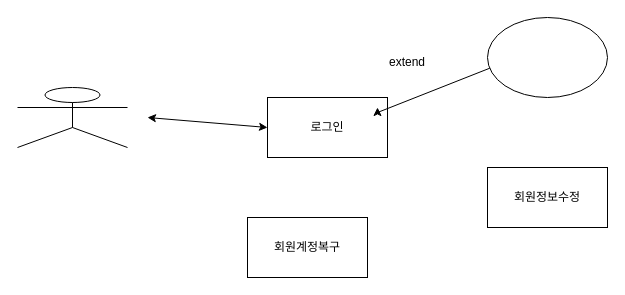
This 625x295 diagram has some shape labels left out. The box of each missing label's shape, as (x1, y1, x2, y2) in pixels:
Actor: (16, 86, 128, 148)
회원탈퇴: (486, 16, 608, 98)
